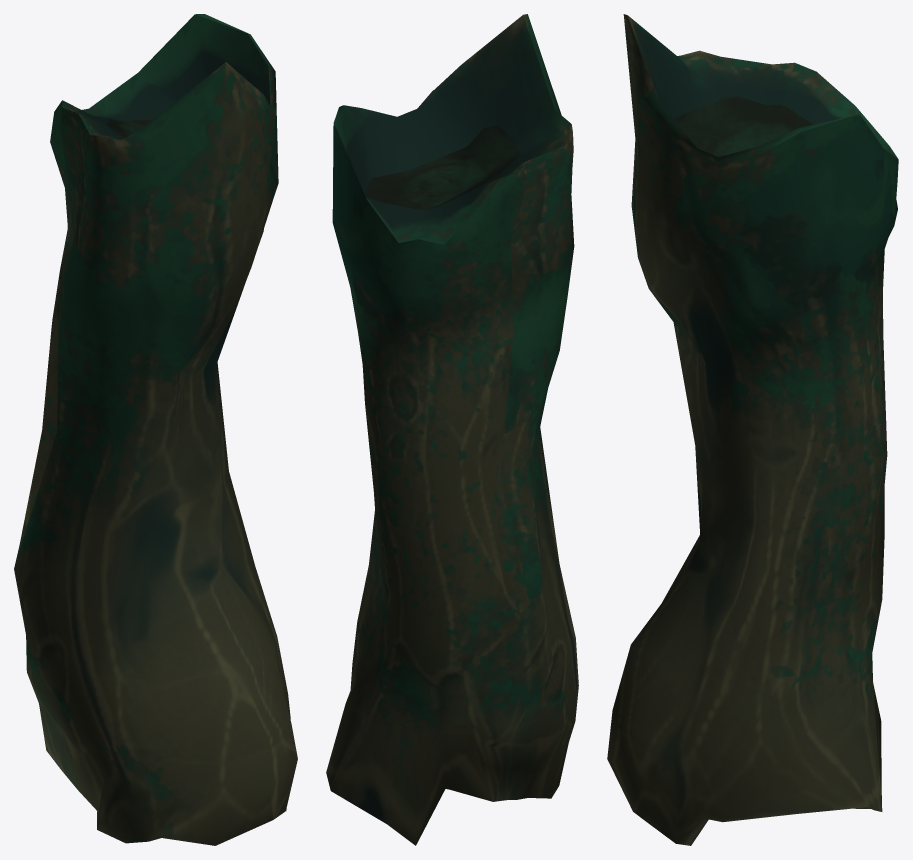
The model's file is EN_P_Treelog.fbx.
The picture shows the model from 3 angles, left to right: view 1: azimuth 30°, elevation 25°; view 2: azimuth 150°, elevation 25°; view 3: azimuth 270°, elevation 25°; orthographic projection. The views are drawn at different scales.
Visible parts, largest first — view 1: tree_log_low; view 2: tree_log_low; view 3: tree_log_low.
Boxes of the visible parts, x1,y1,x2,y2 form: tree_log_low: [14, 14, 297, 845]; tree_log_low: [326, 14, 578, 845]; tree_log_low: [607, 14, 898, 845].
Size of the model in its own units: 181 by 598 by 199.
Materials: 1 (1 with a texture image).
